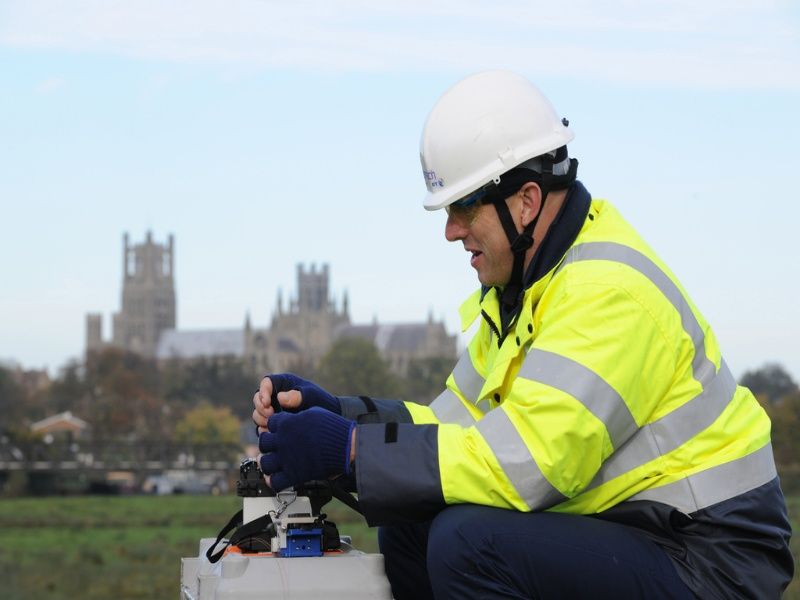Baret: (418, 68, 579, 207)
Gozluk: (437, 197, 490, 232)
